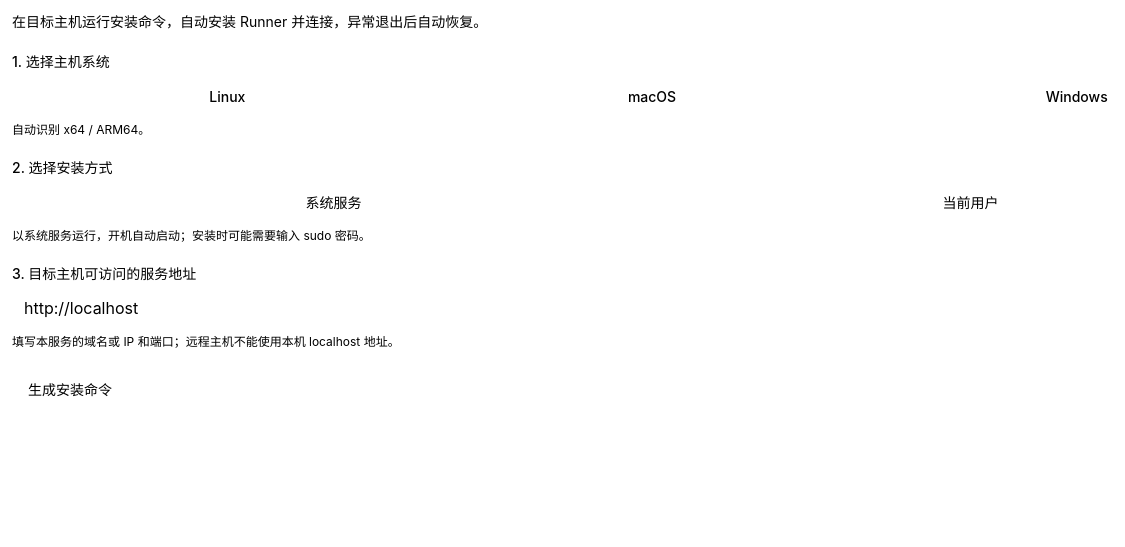
it: hides the command at local expiry even while the status service is unavailable
Click the button "生成安装命令".
click(70, 390)  # box [12,372,128,408]
Wait 16000 ms
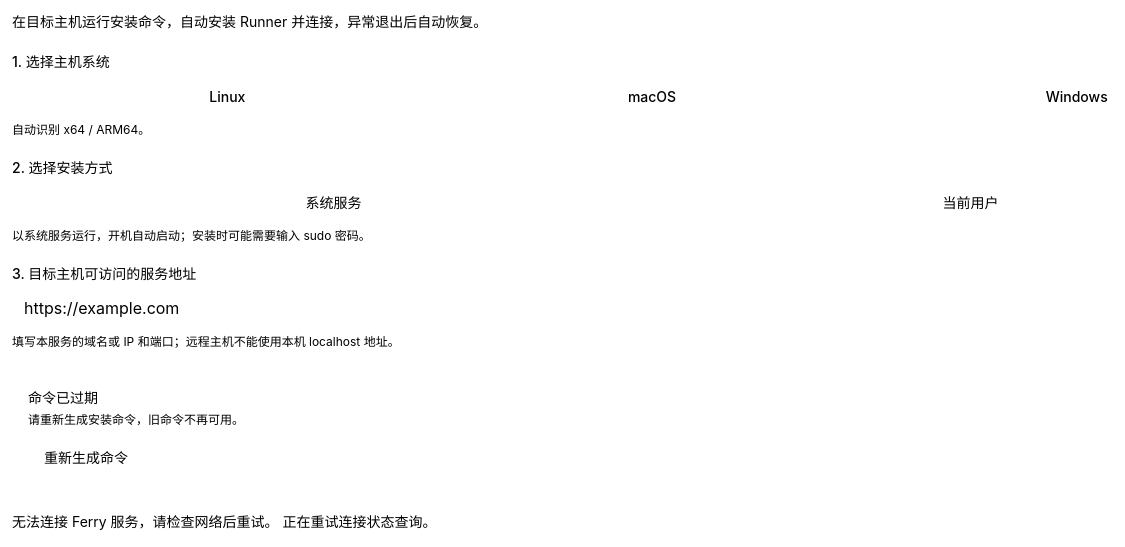
expect the text "命令已过期" is shown: met, box [28,388,98,406]
expect the text "正在重试连接状态查询" is shown: met, box [279,512,436,530]
